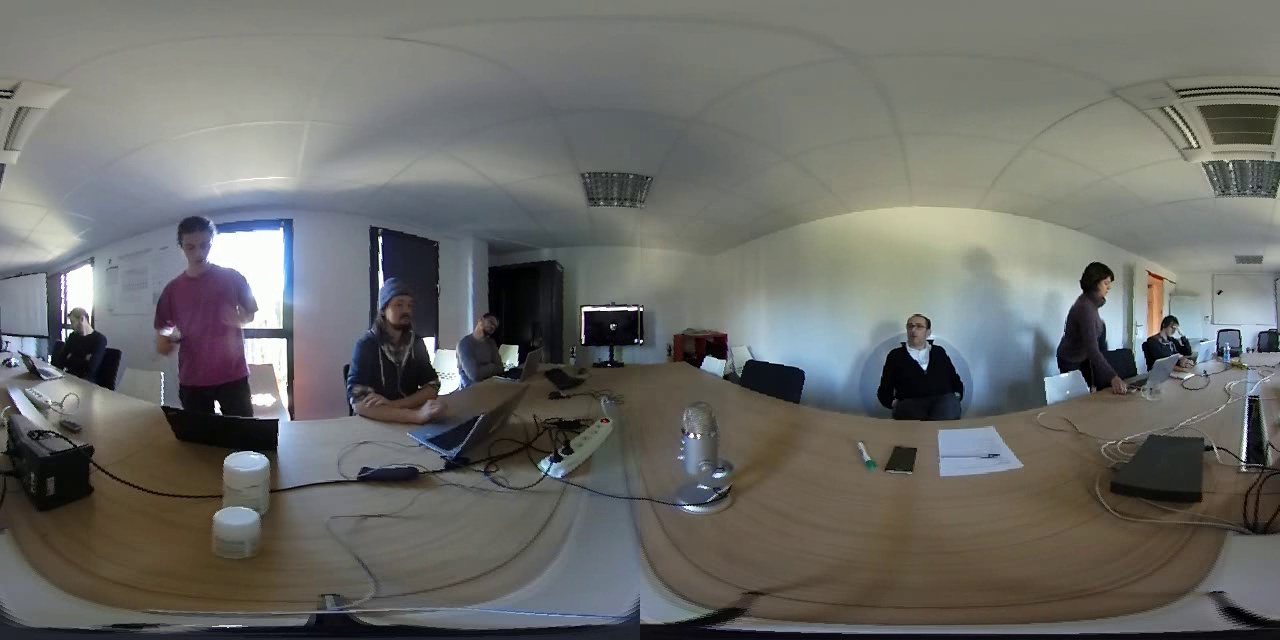person: (141, 204, 273, 406), (340, 271, 441, 427), (870, 304, 973, 434), (1062, 244, 1120, 383), (452, 303, 520, 392), (46, 295, 113, 376), (1140, 307, 1199, 359)
